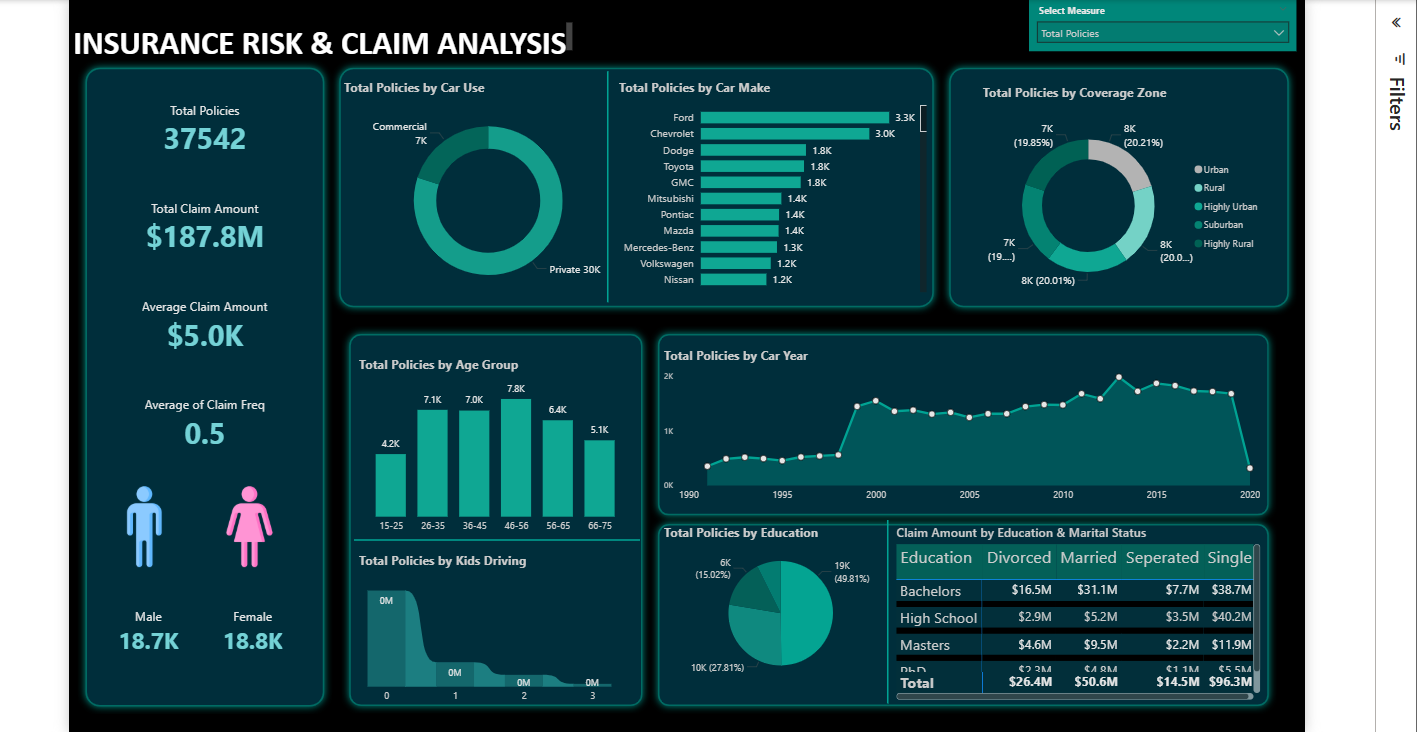

The page's visual inventory and layout, read from the dashboard file:
{"tool":"powerbi","page":{"name":"Page 1","canvas":[1600,950],"ordinal":0},"visuals":[{"type":"textbox","box":[0,24,656.9,53.2],"z":0},{"type":"shape","box":[12,77.2,329.3,847.3],"z":1000},{"type":"cardVisual","fields":{"Data":["insurance_data_car.Total Policies","insurance_data_car.Total Claim Amount","insurance_data_car.Average Claim Amount","Avg(insurance_data_car.Claim Freq)"]},"box":[40.5,108.5,272,500.3],"z":2000},{"type":"cardVisual","fields":{"Data":["insurance_data_car.Male Count","insurance_data_car.Female Count"]},"box":[40.5,762.5,260.7,110.1],"z":3000},{"type":"image","box":[40.5,624.9,114.9,114.9],"z":4000},{"type":"image","box":[176.5,624.9,114.9,114.9],"z":5000},{"type":"slicer","fields":{"Values":["Select Measure.Select Measure"]},"box":[1243.4,0,346.5,66.4],"z":6000},{"type":"shape","box":[340,77.7,790.1,330.3],"z":7000},{"type":"donutChart","fields":{"Y":["insurance_data_car.Total Policies"],"Category":["insurance_data_car.Car Use"]},"box":[351.3,102,383.7,294.7],"z":8000},{"type":"clusteredBarChart","fields":{"Y":["insurance_data_car.Total Policies"],"Category":["insurance_data_car.Car Make"]},"box":[707.5,102,408,281.7],"z":9000},{"type":"shape","box":[1130,77.7,459.8,330.3],"z":10000},{"type":"donutChart","fields":{"Y":["insurance_data_car.Total Policies"],"Category":["insurance_data_car.Coverage Zone"]},"box":[1178.6,108.5,375.6,294.7],"z":11000},{"type":"shape","box":[352.9,422.5,399.9,501.9],"z":12000},{"type":"clusteredColumnChart","fields":{"Y":["insurance_data_car.Total Policies"],"Category":["insurance_data_car.Age Group"]},"box":[370.7,459.8,364.3,239.6],"z":13000},{"type":"ribbonChart","fields":{"Y":["insurance_data_car.Total Policies"],"Category":["insurance_data_car.Kids Driving"]},"box":[370.7,714,348.1,205.6],"z":14000},{"type":"shape","box":[752.8,422.5,811,255],"z":15000},{"type":"areaChart","fields":{"Y":["insurance_data_car.Total Policies"],"Category":["insurance_data_car.Car Year"]},"box":[765.8,448.5,782,210.5],"z":16000},{"type":"shape","box":[752.8,668.6,811.1,255.8],"z":17000},{"type":"pieChart","fields":{"Y":["insurance_data_car.Total Policies"],"Category":["insurance_data_car.Education"]},"box":[765.8,678.3,312.5,210.5],"z":18000},{"type":"pivotTable","title":"Claim Amount by Education & Marital Status","fields":{"Rows":["insurance_data_car.Education"],"Columns":["insurance_data_car.Marital Status"],"Values":["insurance_data_car.Total Claim Amount"]},"box":[1066.9,678.3,480.8,233.1],"z":19000},{"type":"shape","box":[642.7,92.3,110.1,299.5],"z":20000},{"type":"shape","box":[1005.4,673.5,110.1,238],"z":21000},{"type":"shape","box":[369.1,683.2,370.7,32.4],"z":22000}]}

Visuals, with their boxes on the page's 1600x950 design canvas (x1, y1, x2, y2). These are canvas units, not pixel positions in the 1417x732 screenshot, which may show the page scaled, cropped or inside an application window:
textbox: select_region(0, 24, 657, 77)
shape: select_region(12, 77, 341, 924)
cardVisual - insurance_data_car.Total Policies x insurance_data_car.Total Claim Amount: select_region(40, 108, 312, 609)
cardVisual - insurance_data_car.Male Count x insurance_data_car.Female Count: select_region(40, 762, 301, 873)
image: select_region(40, 625, 155, 740)
image: select_region(176, 625, 291, 740)
slicer - Select Measure.Select Measure: select_region(1243, 0, 1590, 66)
shape: select_region(340, 78, 1130, 408)
donutChart - insurance_data_car.Total Policies x insurance_data_car.Car Use: select_region(351, 102, 735, 397)
clusteredBarChart - insurance_data_car.Total Policies x insurance_data_car.Car Make: select_region(708, 102, 1116, 384)
shape: select_region(1130, 78, 1590, 408)
donutChart - insurance_data_car.Total Policies x insurance_data_car.Coverage Zone: select_region(1179, 108, 1554, 403)
shape: select_region(353, 422, 753, 924)
clusteredColumnChart - insurance_data_car.Total Policies x insurance_data_car.Age Group: select_region(371, 460, 735, 699)
ribbonChart - insurance_data_car.Total Policies x insurance_data_car.Kids Driving: select_region(371, 714, 719, 920)
shape: select_region(753, 422, 1564, 678)
areaChart - insurance_data_car.Total Policies x insurance_data_car.Car Year: select_region(766, 448, 1548, 659)
shape: select_region(753, 669, 1564, 924)
pieChart - insurance_data_car.Total Policies x insurance_data_car.Education: select_region(766, 678, 1078, 889)
"Claim Amount by Education & Marital Status" pivotTable: select_region(1067, 678, 1548, 911)
shape: select_region(643, 92, 753, 392)
shape: select_region(1005, 674, 1116, 912)
shape: select_region(369, 683, 740, 716)
